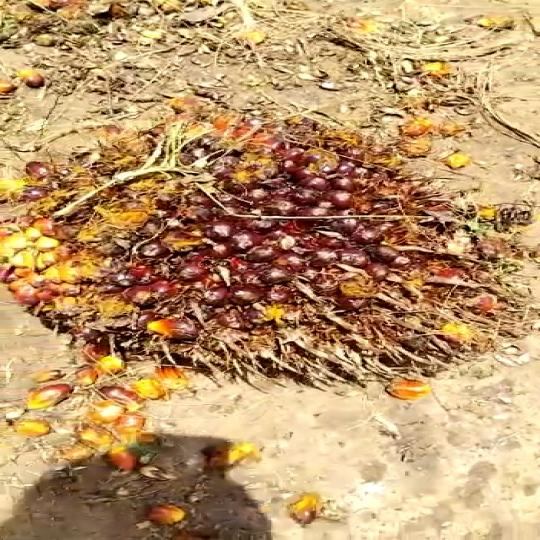masak: (0, 107, 540, 401)
